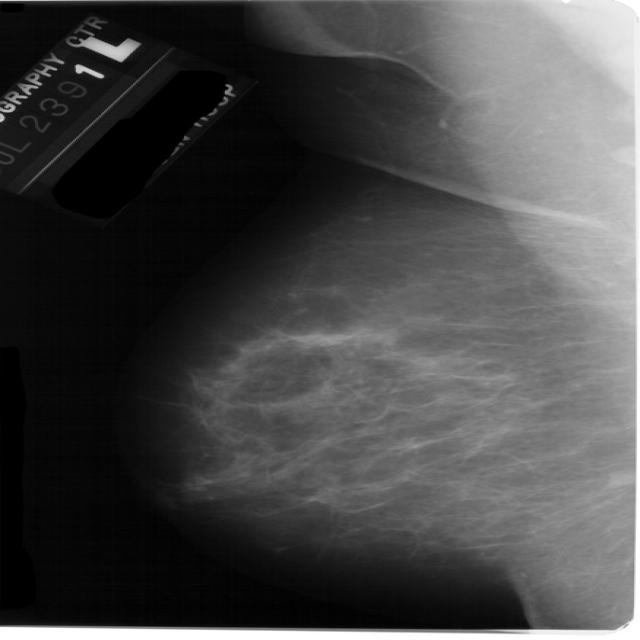tumour: (604, 470, 636, 488)
